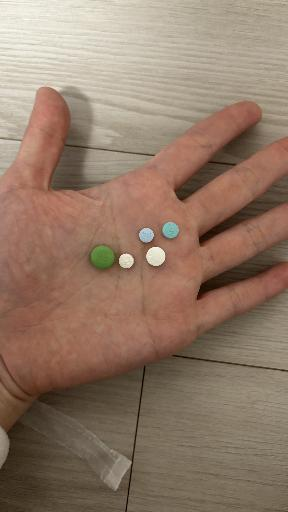Distec F: (91, 246, 115, 269)
Fenocle: (146, 247, 165, 266)
Lafubis: (119, 253, 134, 268)
Myoben: (162, 222, 179, 239)
Prilin: (139, 228, 154, 243)
pills1: (0, 87, 288, 432), (86, 209, 183, 284)
